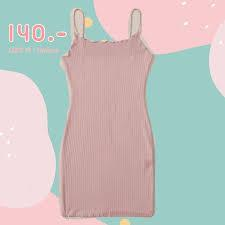dress: (61, 10, 156, 219)
